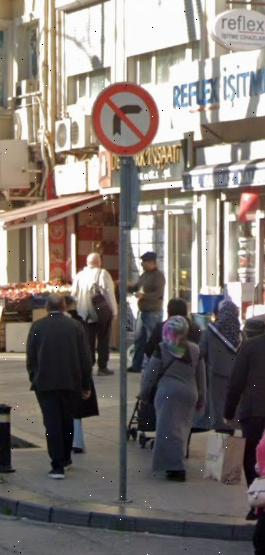rightturnsareforbidden: (92, 83, 161, 152)
